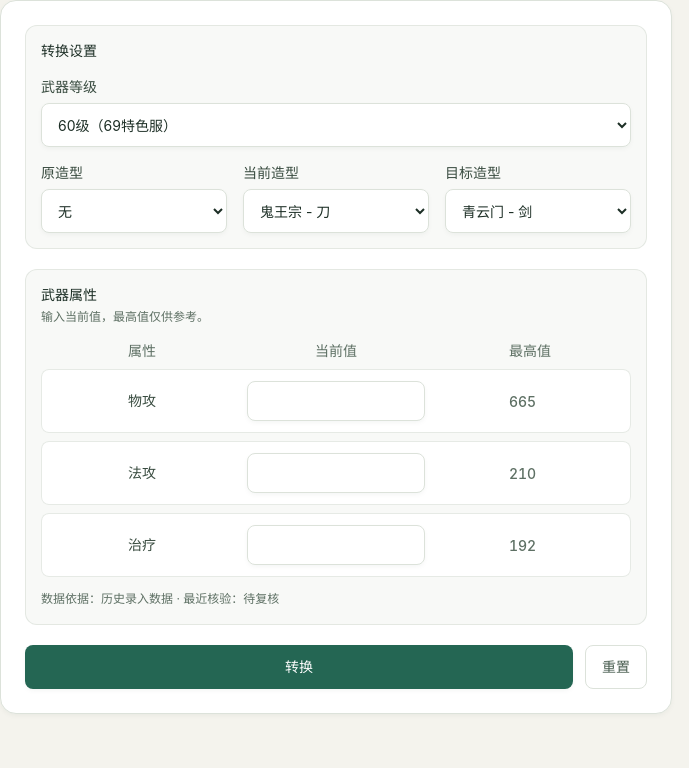
Scenario: WeaponConverter 组件 › 表单验证 › 应该在属性值超过最大值时显示错误
// 输入超过最大值的物攻
Type "1000" into the number field labelled "物攻".
click(336, 401); type("1000")  # box [247, 381, 425, 421]
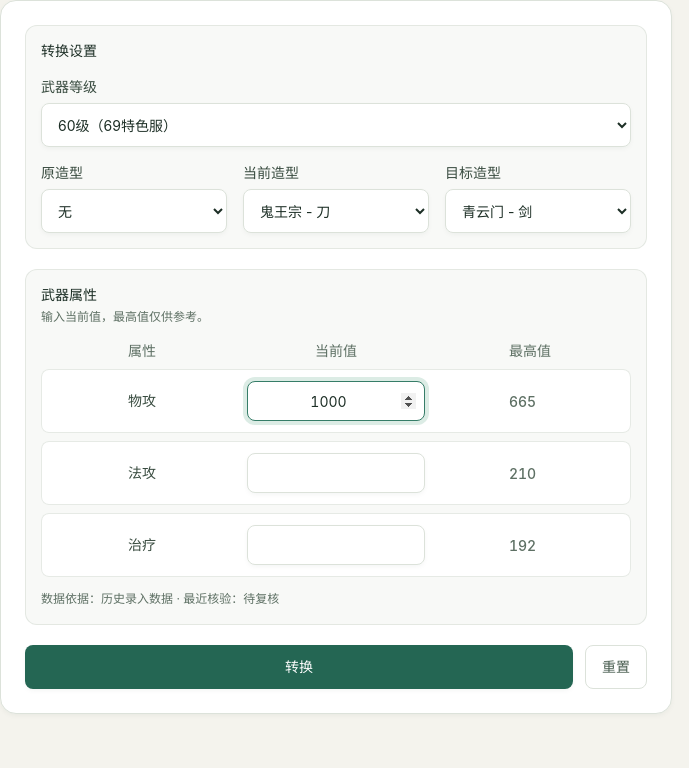
// 输入法攻和治疗的正常值
Type "150" into the number field labelled "法攻".
click(336, 473); type("150")  # box [247, 453, 425, 493]
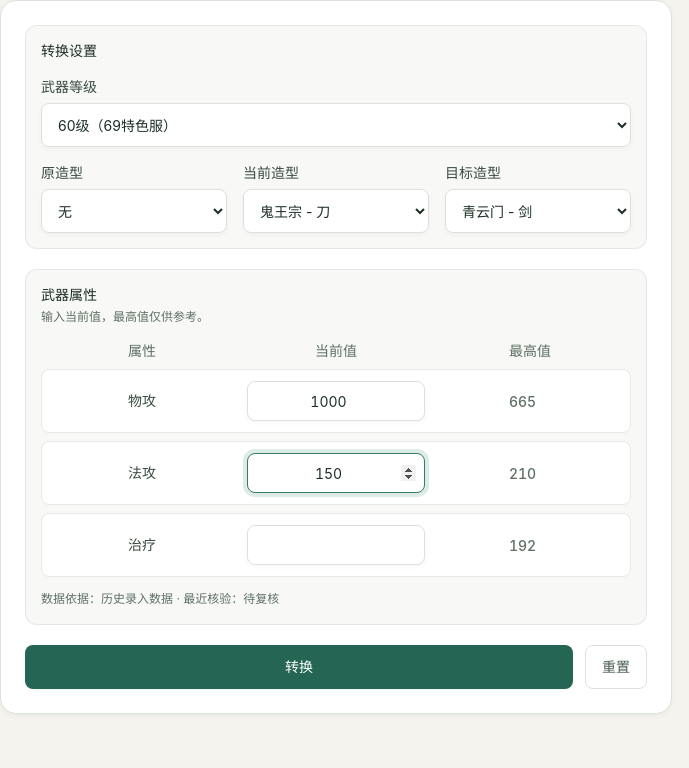
Type "100" into the number field labelled "治疗".
click(336, 545); type("100")  # box [247, 525, 425, 565]
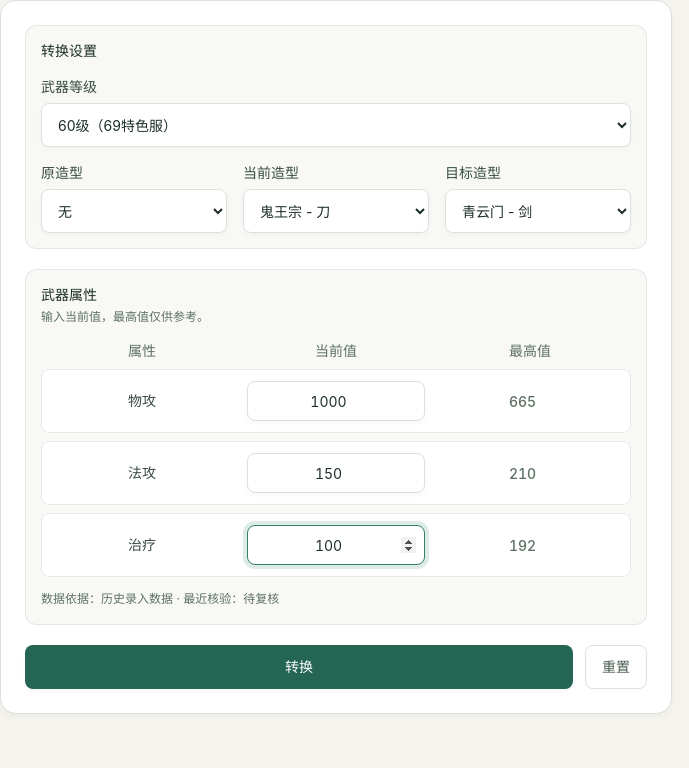
Click the button "转换".
click(299, 667)  # box [25, 645, 573, 689]
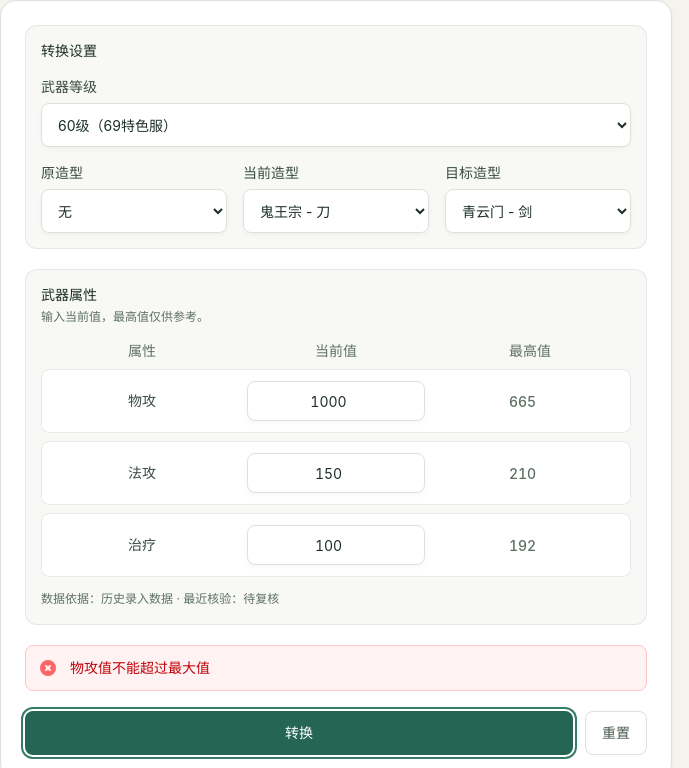
Now the text "物攻值不能超过最大值" is shown, box [70, 658, 210, 678]
